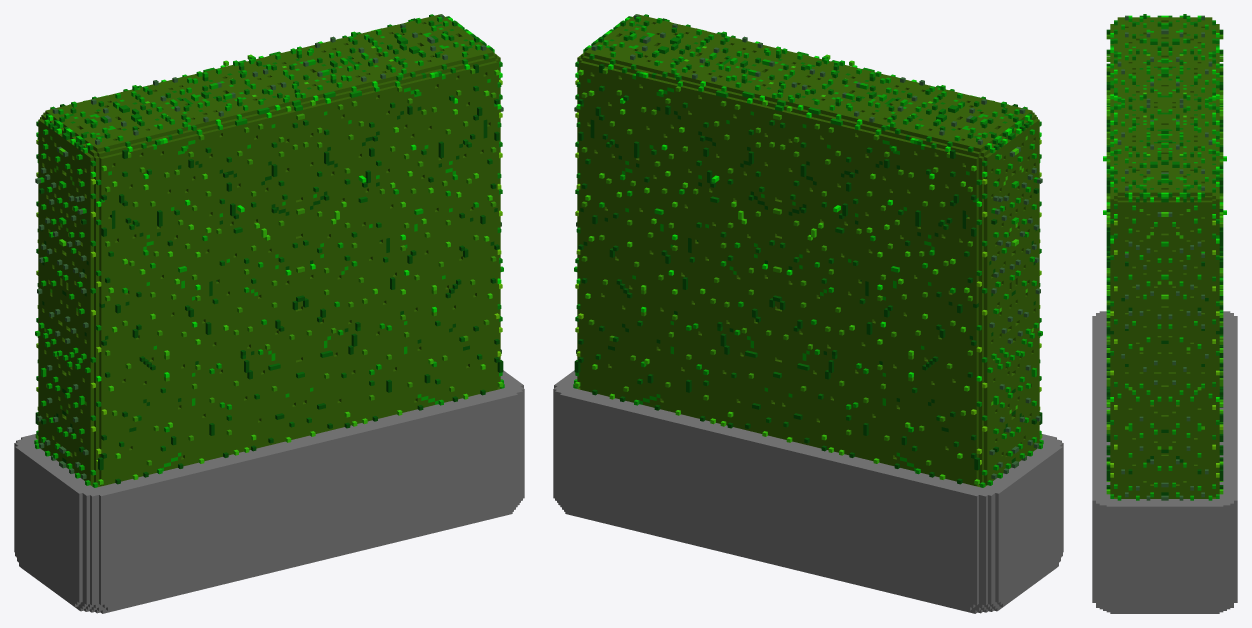
The model's file is bush_in_voxels.glb.
3 views of the same model, side by side, from view 1: azimuth 30°, elevation 25°; view 2: azimuth 150°, elevation 25°; view 3: azimuth 270°, elevation 25° (orthographic). The views are drawn at different scales.
Visible parts, largest first — view 1: Object_2; view 2: Object_2; view 3: Object_2.
Part boxes in pixels (x1,y1,x2,y2): Object_2: (14, 14, 524, 613); Object_2: (553, 14, 1063, 613); Object_2: (1092, 14, 1237, 613).
Bounding box in the file's own units: 12.8 × 12.7 × 4.
Materials: 1 (1 with a texture image).
